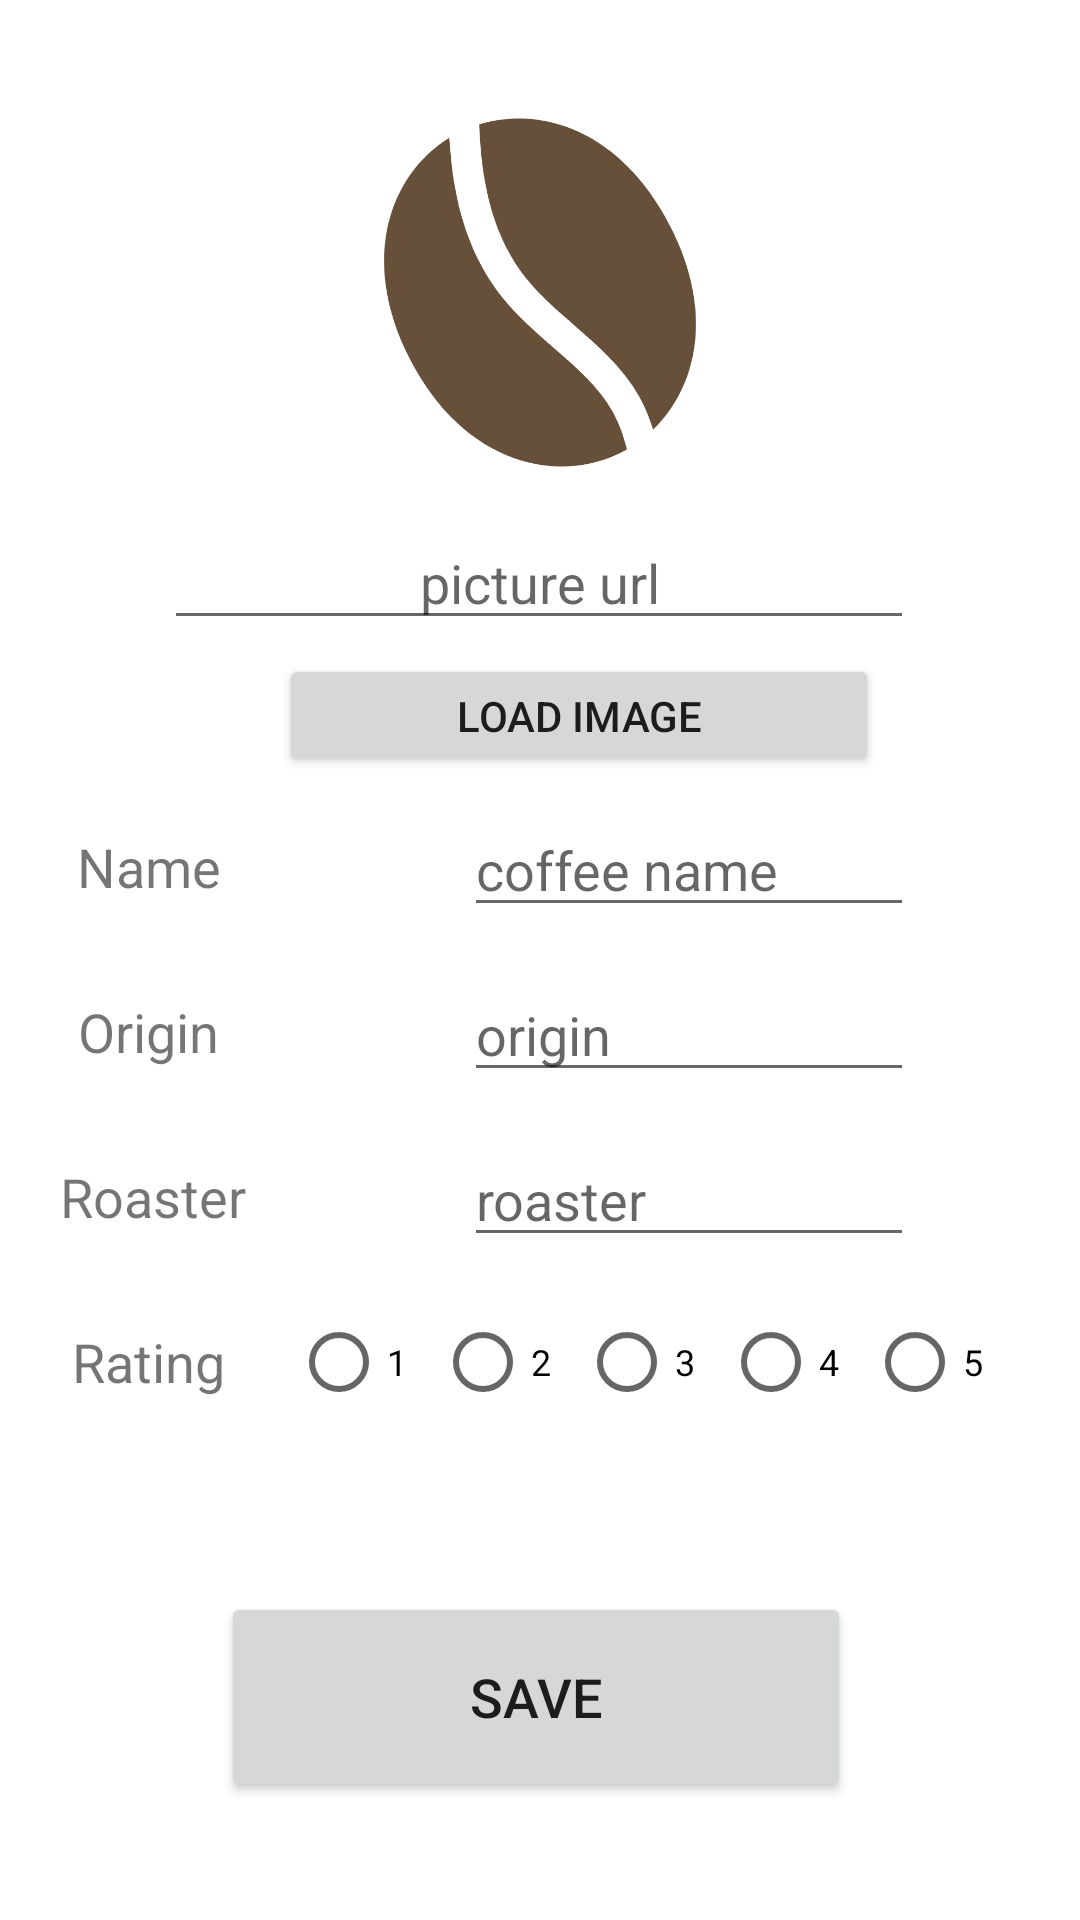

Icons on this 1080×1920 Android screen, each with its box as (x1, y1, x2, y2):
coffeebean: (384, 118, 696, 467)
